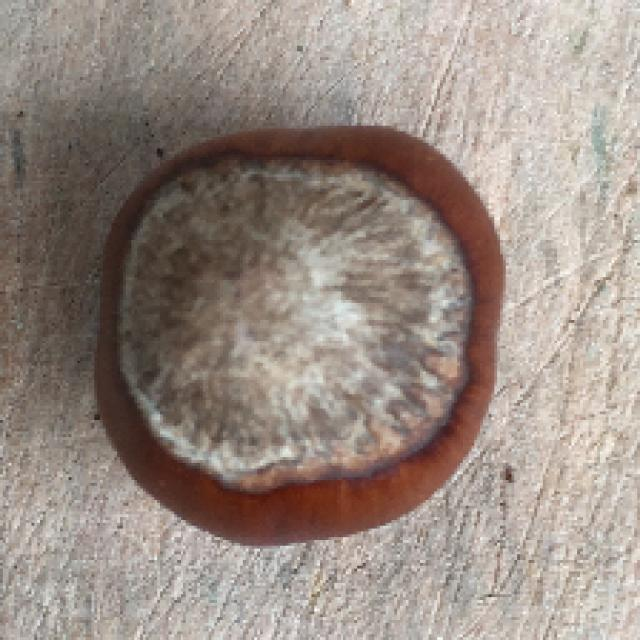qualityHazelnut: (89, 119, 507, 549)
